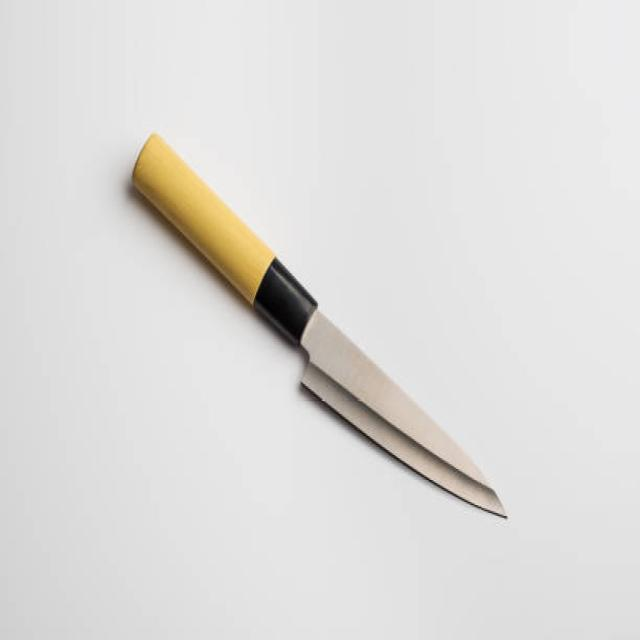knife: (128, 113, 523, 541)
